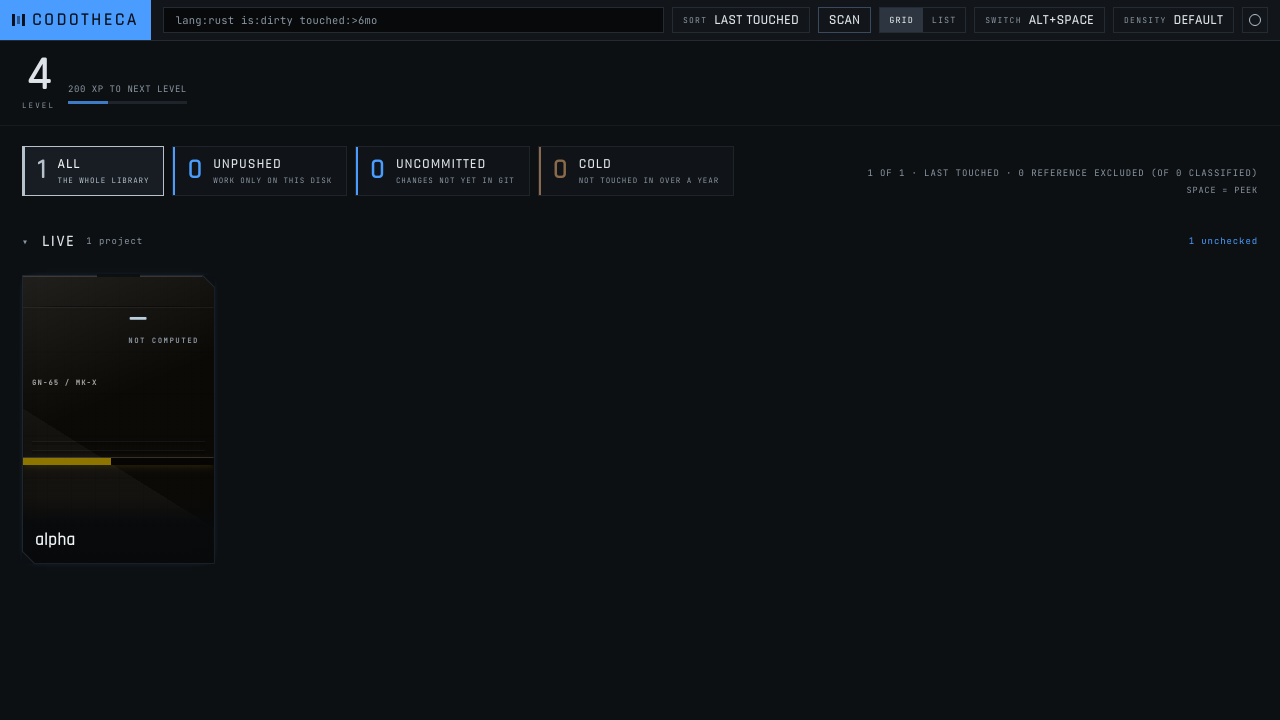
Test case: App — the composition root › opens Profile from the band’s level number, and Esc returns to the shelf
The width and height of the screenshot is (1280, 720).
Click the button "LEVEL 4": (38, 83) [22,57,55,110]
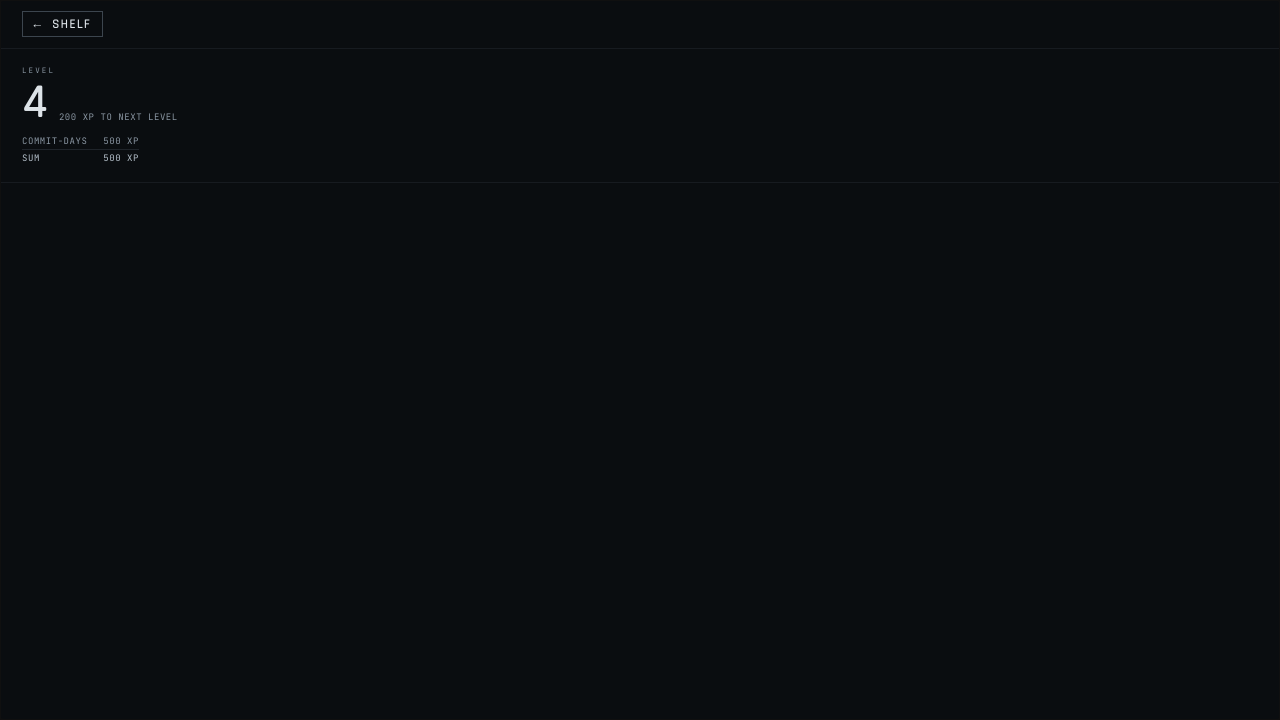
expect the element with class "cdt-profile" is shown: met
expect the element with class "cdt-shelf" is gone: met
expect the element showing "LEVEL 4 200 XP TO NEXT LEVEL COMMIT-DAYS 500 XP SUM 500 XP" is shown: met, box [0,49,1279,183]
Press Escape in the element with class "cdt-profile"
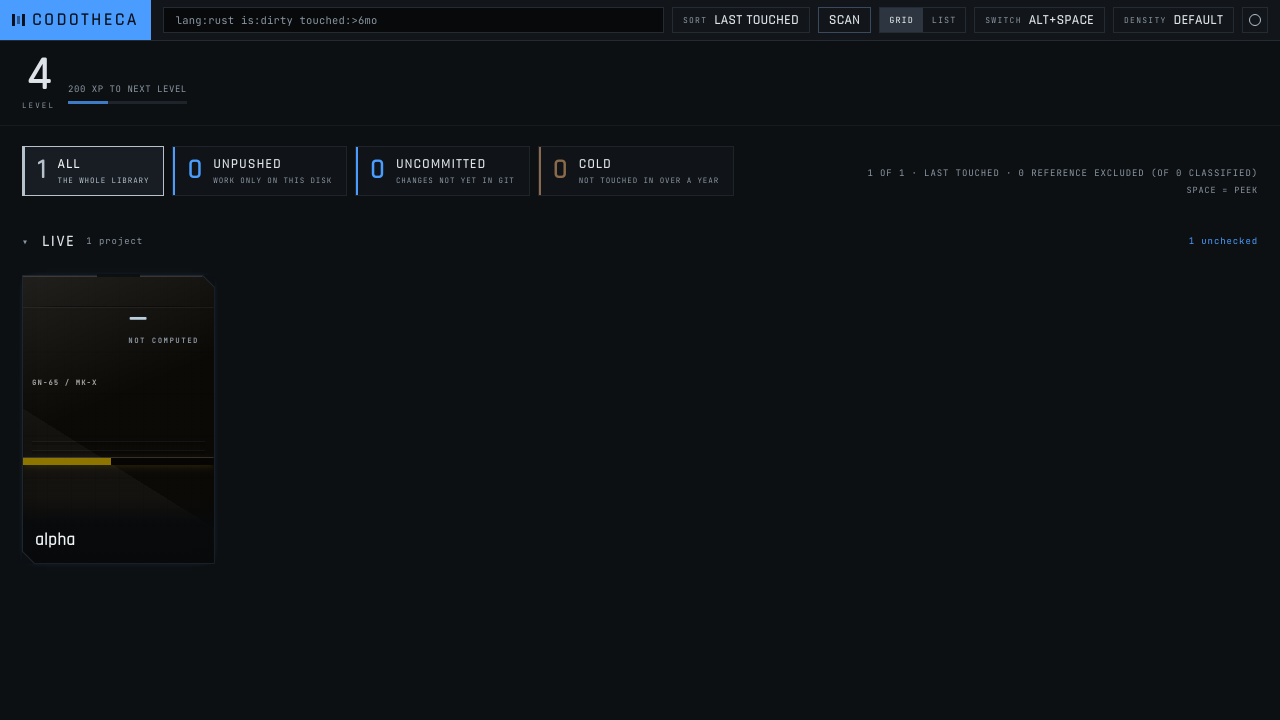
expect the element with class "cdt-shelf" is shown: met
expect the element with class "cdt-profile" is gone: met
